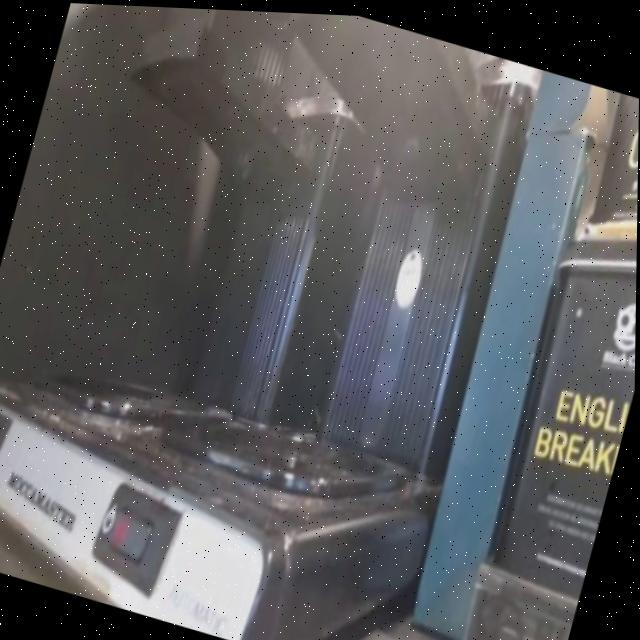empty: (170, 7, 499, 563), (0, 0, 352, 490)
